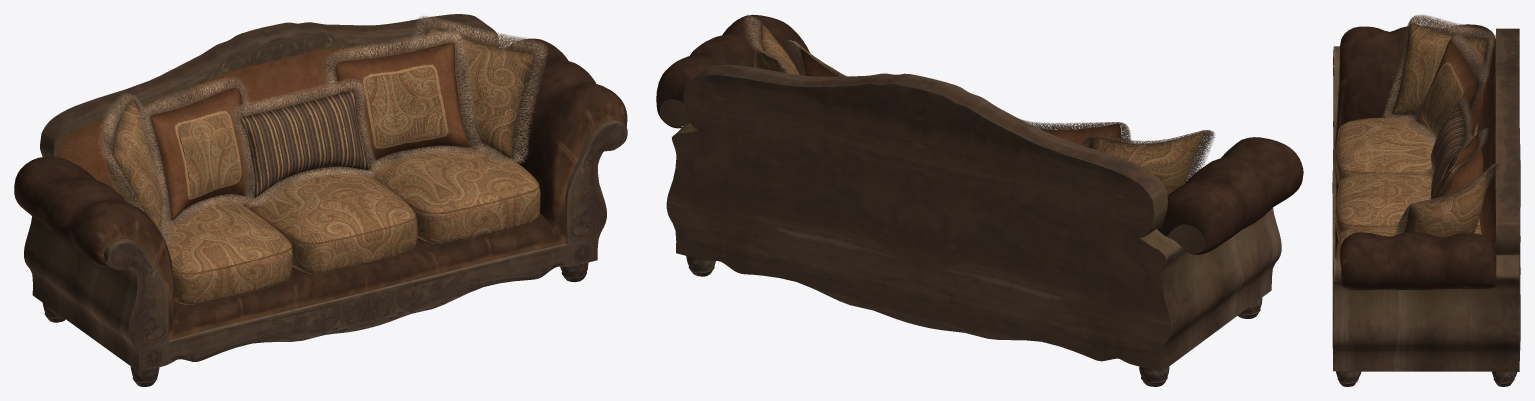
Rendered from leather-sofa.glb.
3 renders of one model, left to right at view 1: azimuth 30°, elevation 25°; view 2: azimuth 150°, elevation 25°; view 3: azimuth 270°, elevation 25°, orthographic. The views are drawn at different scales.
Visible parts, largest first — view 1: Frame, Paisley, Fringe, Brown, Stripes, Frame_Fabric; view 2: Frame, Paisley, Fringe, Brown; view 3: Frame, Paisley, Fringe, Brown, Frame_Fabric, Stripes.
Boxes of the visible parts, x1,y1,x2,y2 form: Frame: (14, 14, 627, 386); Paisley: (107, 27, 540, 304); Fringe: (98, 16, 547, 245); Brown: (150, 42, 539, 274); Stripes: (174, 64, 448, 199); Frame_Fabric: (57, 34, 494, 189); Frame: (656, 14, 1303, 386); Paisley: (754, 23, 1204, 194); Fringe: (743, 15, 1214, 181); Brown: (800, 46, 1121, 147); Frame: (1332, 24, 1520, 386); Paisley: (1335, 23, 1487, 257); Fringe: (1382, 14, 1499, 235); Brown: (1337, 40, 1483, 257); Frame_Fabric: (1477, 39, 1495, 245); Stripes: (1422, 61, 1472, 198).
Bounding box in the file's own units: 2.73 × 1.12 × 0.9232.
Materials: 6 (6 with a texture image).
